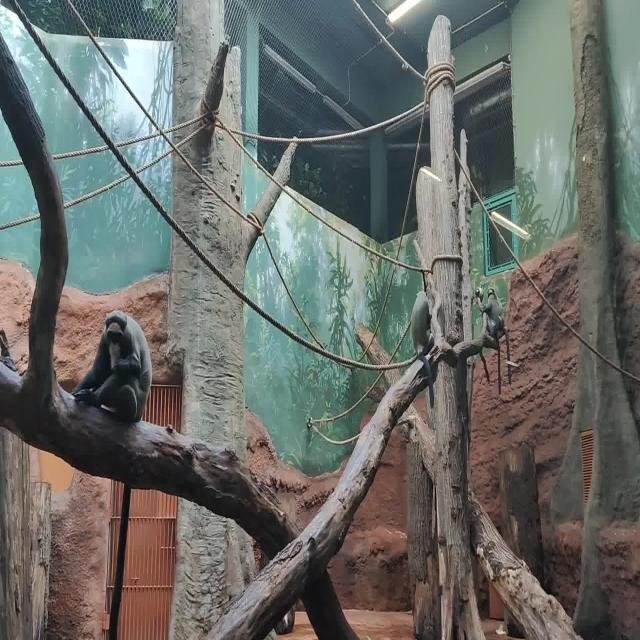monkey: (72, 310, 152, 424), (411, 290, 435, 409), (483, 288, 512, 385)
